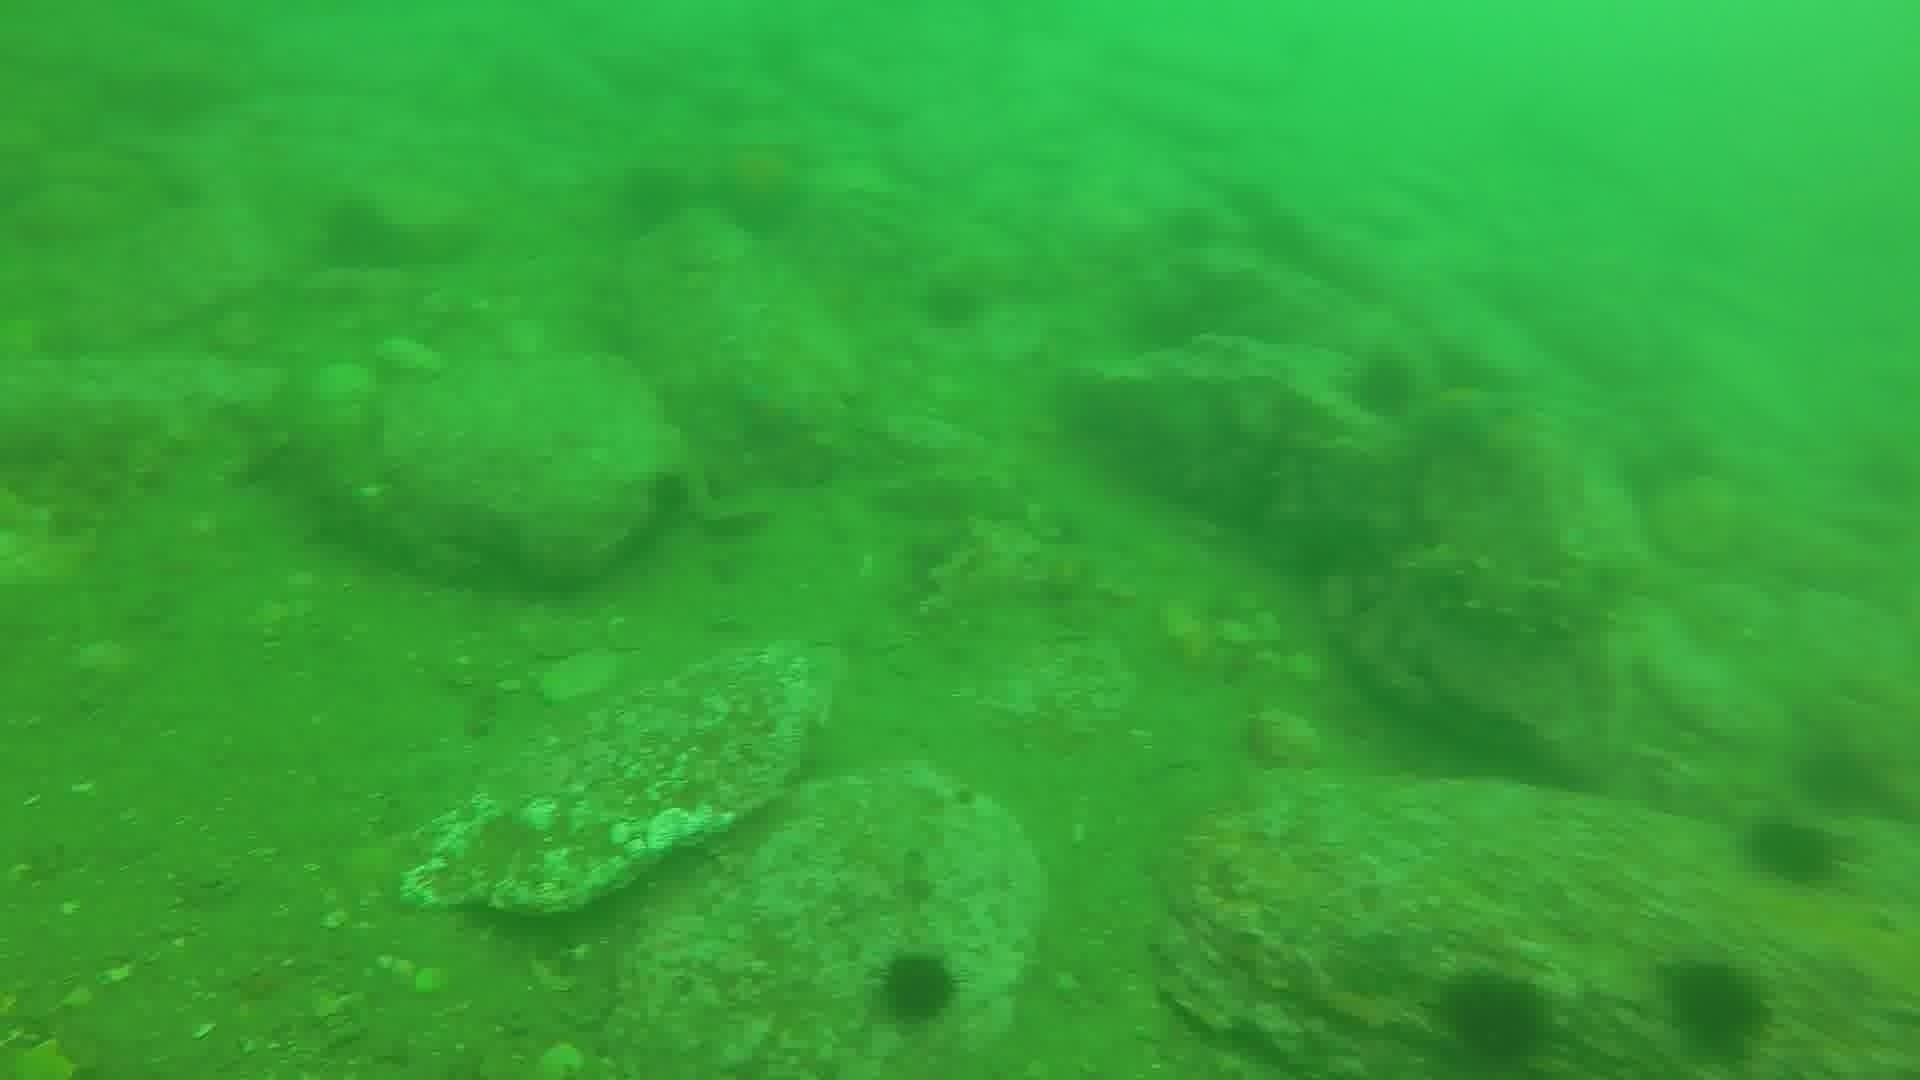echinus: (1658, 953, 1775, 1063), (1432, 967, 1555, 1068), (1741, 812, 1846, 891), (1789, 738, 1887, 822), (872, 947, 963, 1030), (311, 194, 404, 276), (609, 160, 692, 239), (1344, 348, 1422, 423), (915, 273, 988, 336)
starfish: (698, 133, 819, 240), (1400, 372, 1520, 464)
